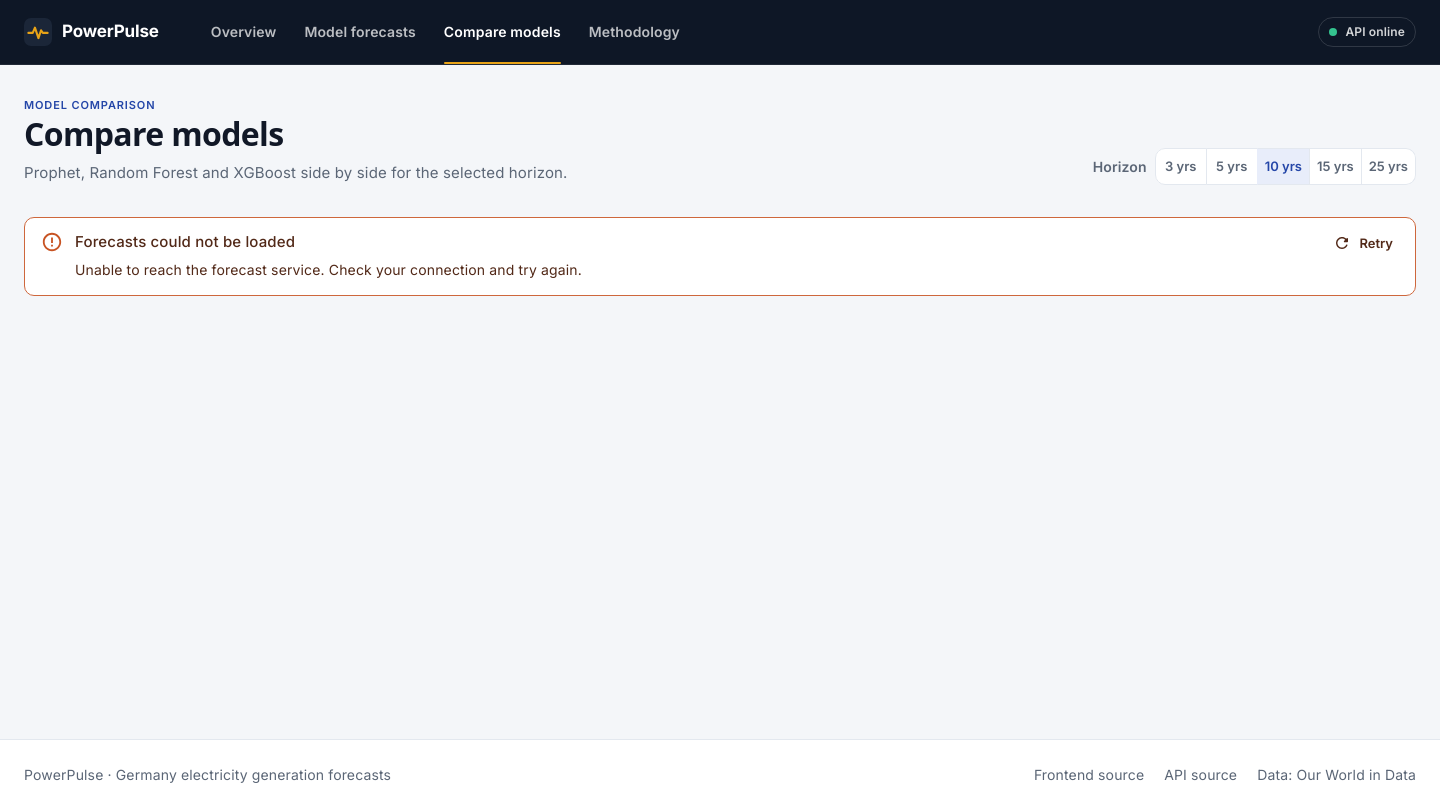
Test case: application › shows an error state with a working retry
Expected: the text "Unable to reach the forecast service" is shown, [75,261,582,278]
Click the button "Retry".
click(1364, 243)  # box [1321,228,1407,259]
(page scrolled)
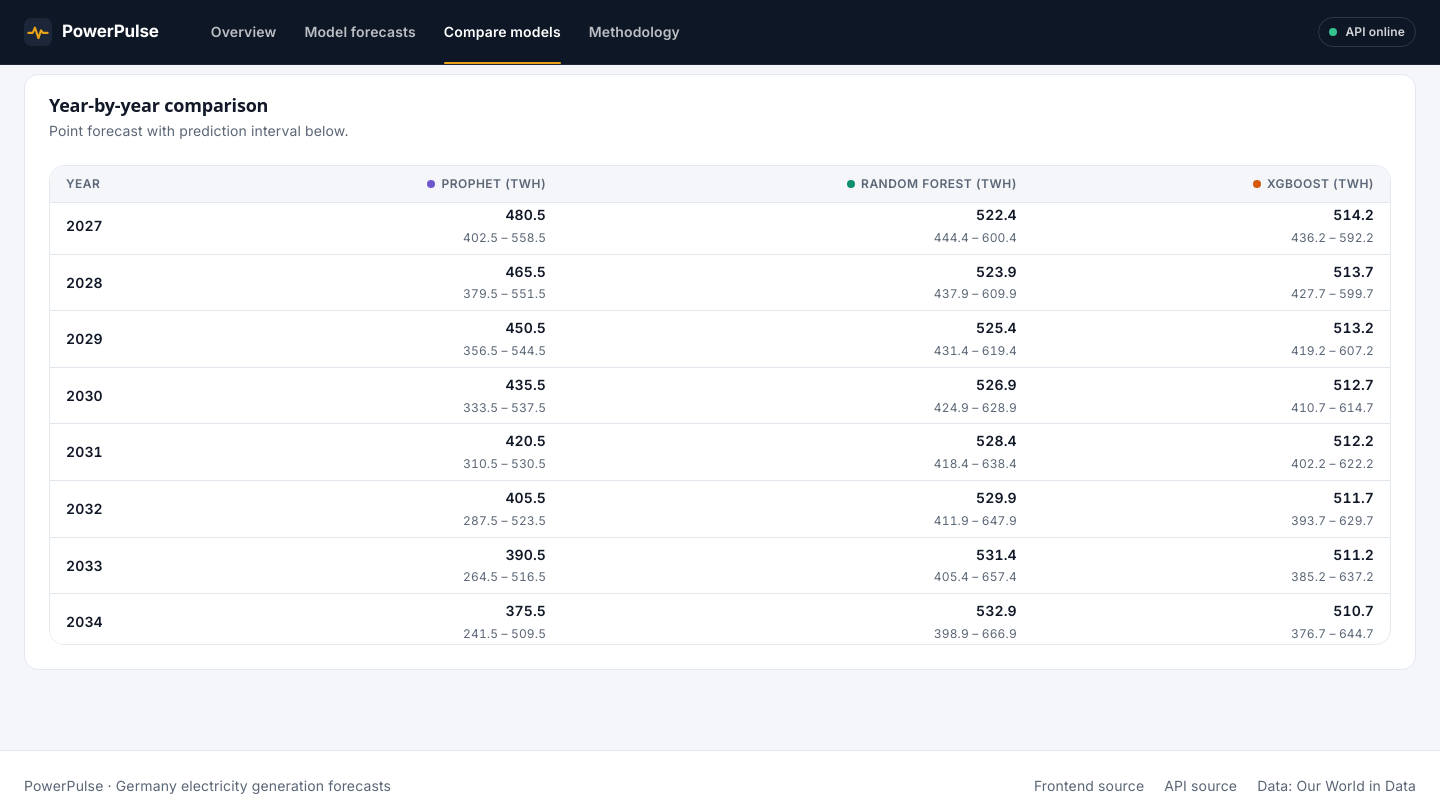
Expected: the table named "Forecast comparison by year" is shown, [50,166,1390,646]
